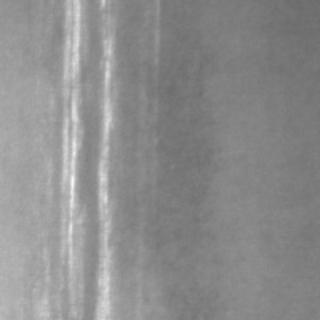scratches: (51, 1, 81, 316), (90, 35, 112, 315)
